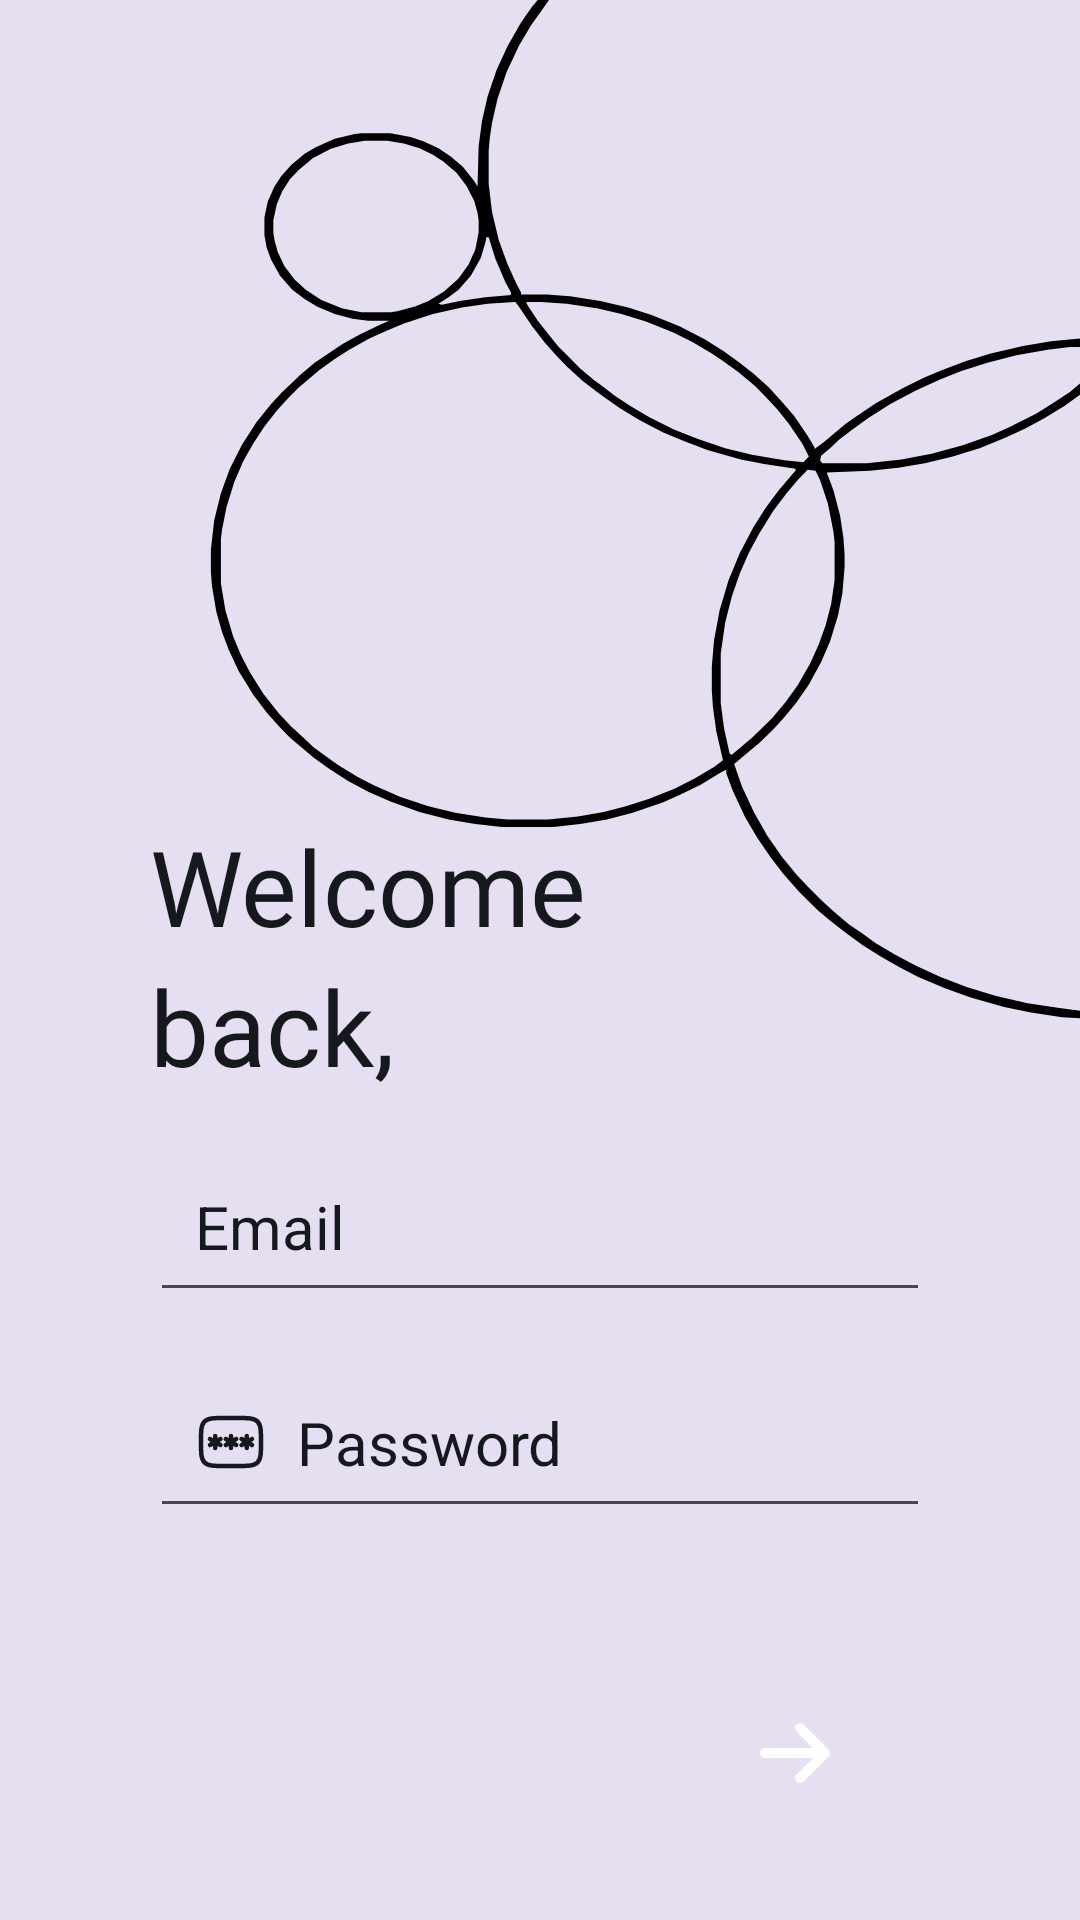

Named icons in this screenshot (1080w x 1920h) and their bounding boxes, (x1, y1, x2, y2):
arrow sm right: (760, 1723, 830, 1783)
